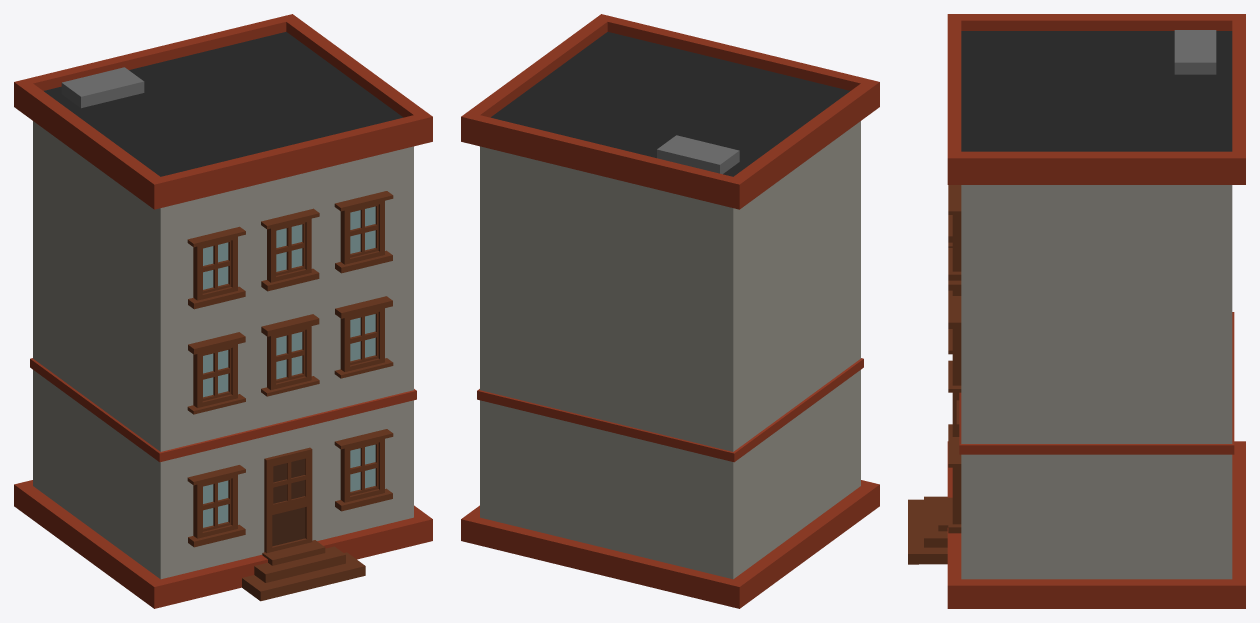
The model's file is bati-Flat.glb.
The picture shows the model from 3 angles, left to right: view 1: azimuth 30°, elevation 25°; view 2: azimuth 150°, elevation 25°; view 3: azimuth 270°, elevation 25°; orthographic projection. The views are drawn at different scales.
Parts seen in each view (by area): view 1: Flat1_Cube; view 2: Flat1_Cube; view 3: Flat1_Cube.
Boxes of the visible parts, left/top/right/bottom form: Flat1_Cube: left=14, top=14, right=432, bottom=608; Flat1_Cube: left=461, top=14, right=879, bottom=608; Flat1_Cube: left=908, top=14, right=1245, bottom=608.
Bounding box in the file's own units: 2.17 × 3.17 × 2.14.
1 material, 1 textured.
